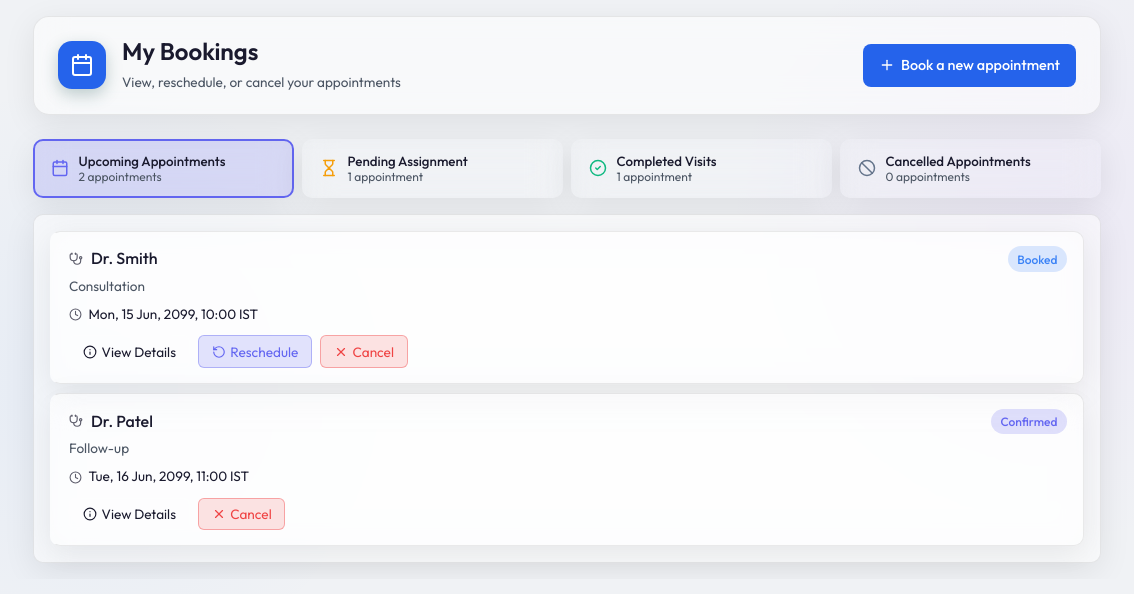
it: MyBookings — Pending bucket › shows "Pending assignment" doctor label
Click the tab with test id "my-bookings-tab-pending". click: (432,168)
box: [302,139,563,198]
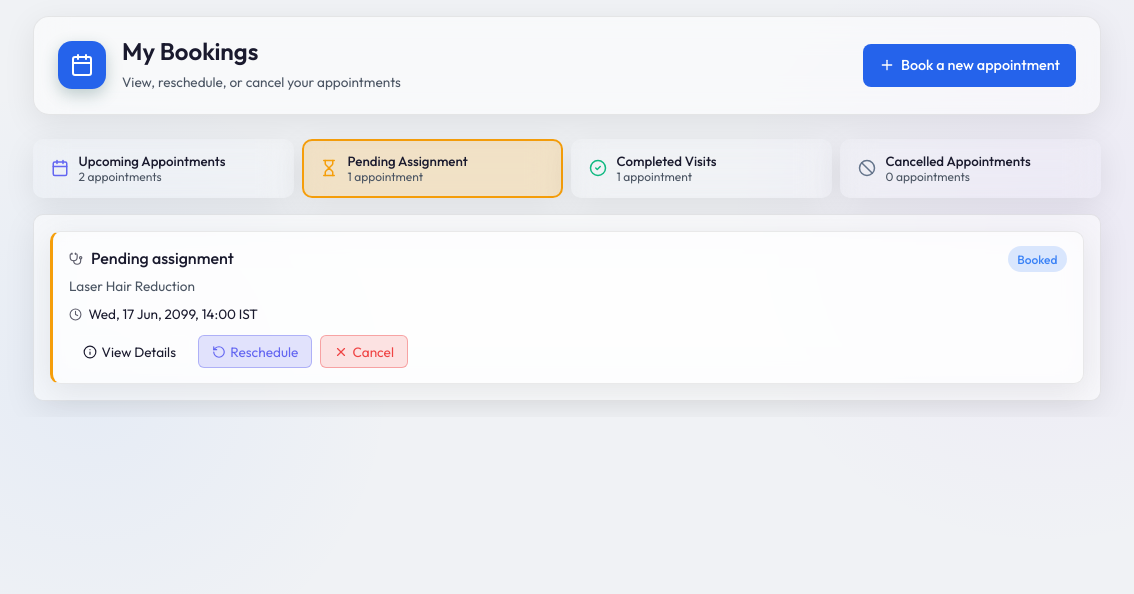
Check: the text with test id "appt-doctor-3" reads "Pending assignment", box [91,248,234,268]
